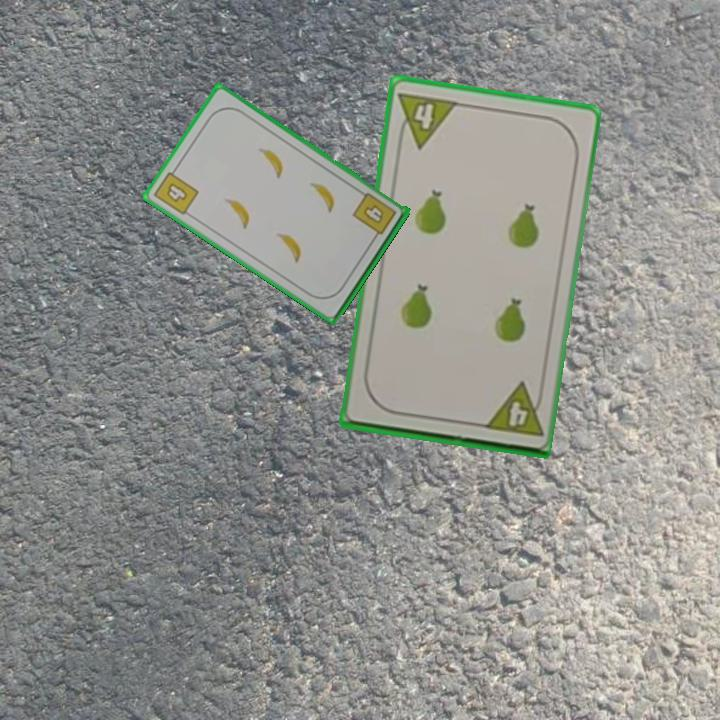4b: (150, 163, 202, 218), (349, 189, 399, 243)
4p: (393, 88, 460, 151), (479, 379, 547, 440)
